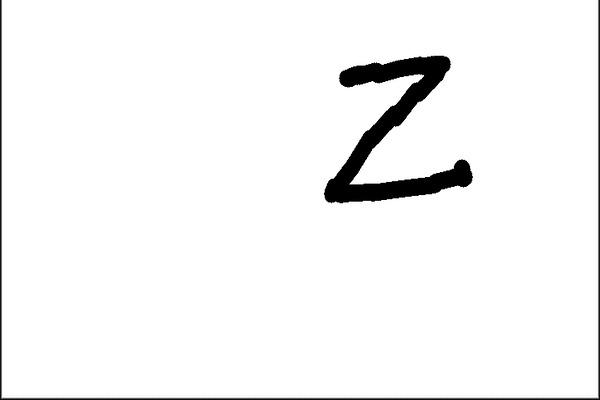Z: (320, 43, 480, 209)
